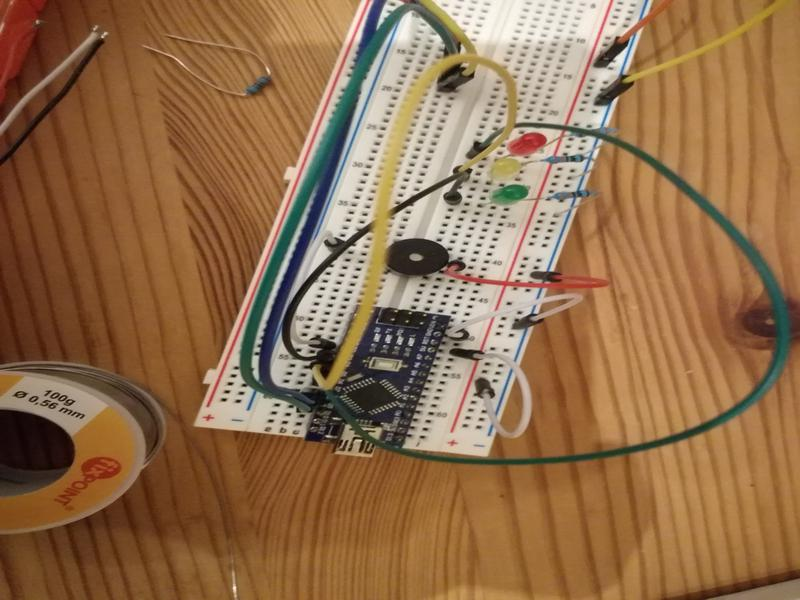Arduino_Nano: (306, 300, 457, 464)
